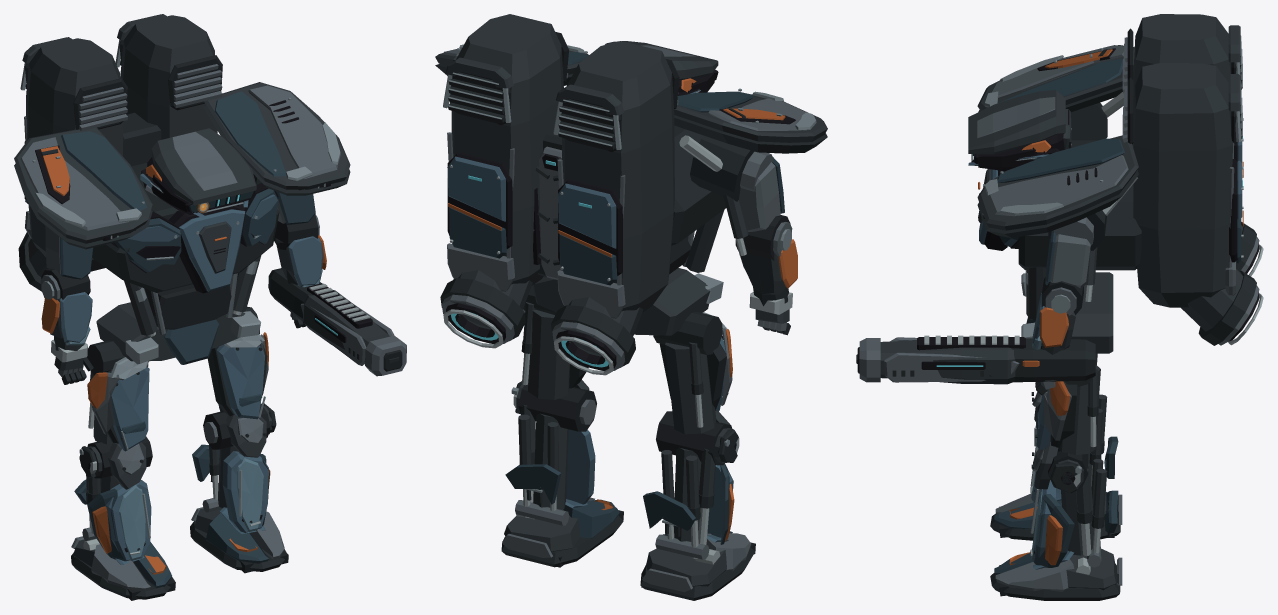
The model's file is m07-cangyan-v4.glb.
3 renders of one model, left to right at view 1: azimuth 30°, elevation 25°; view 2: azimuth 150°, elevation 25°; view 3: azimuth 270°, elevation 25°, orthographic. The views are drawn at different scales.
Parts seen in each view (by area): view 1: M07_Upper_armor, M07_Shin_L_armor, M07_Shin_R_armor, M07_Rifle_armor, M07_Thigh_L_armor, M07_Thigh_R_armor, M07_Foot_R_armor, M07_Foot_L_armor; view 2: M07_Upper_armor, M07_Shin_L_armor, M07_Shin_R_armor, M07_Thigh_L_armor, M07_Foot_R_armor, M07_Foot_L_armor, M07_Thigh_R_armor, M07_Upper_optics; view 3: M07_Upper_armor, M07_Rifle_armor, M07_Shin_R_armor, M07_Foot_R_armor, M07_Thigh_R_armor, M07_Foot_L_armor, M07_Shin_L_armor.
Part boxes in pixels (x1=…): M07_Upper_armor: x1=14, y1=14, x2=350, y2=384; M07_Shin_L_armor: x1=74, y1=436, x2=152, y2=561; M07_Shin_R_armor: x1=192, y1=403, x2=276, y2=532; M07_Rifle_armor: x1=268, y1=268, x2=406, y2=376; M07_Thigh_L_armor: x1=87, y1=340, x2=149, y2=451; M07_Thigh_R_armor: x1=208, y1=306, x2=268, y2=419; M07_Foot_R_armor: x1=190, y1=507, x2=288, y2=573; M07_Foot_L_armor: x1=71, y1=536, x2=175, y2=600; M07_Upper_armor: x1=435, y1=14, x2=827, y2=375; M07_Shin_L_armor: x1=643, y1=411, x2=739, y2=559; M07_Shin_R_armor: x1=505, y1=379, x2=596, y2=525; M07_Thigh_L_armor: x1=653, y1=311, x2=732, y2=434; M07_Foot_R_armor: x1=501, y1=497, x2=623, y2=567; M07_Foot_L_armor: x1=640, y1=531, x2=755, y2=600; M07_Thigh_R_armor: x1=521, y1=285, x2=588, y2=399; M07_Upper_optics: x1=451, y1=160, x2=608, y2=367; M07_Upper_armor: x1=968, y1=14, x2=1263, y2=395; M07_Rifle_armor: x1=856, y1=335, x2=1095, y2=384; M07_Shin_R_armor: x1=1030, y1=437, x2=1118, y2=567; M07_Foot_R_armor: x1=990, y1=548, x2=1122, y2=600; M07_Thigh_R_armor: x1=1034, y1=364, x2=1100, y2=454; M07_Foot_L_armor: x1=990, y1=488, x2=1122, y2=540; M07_Shin_L_armor: x1=1030, y1=392, x2=1118, y2=503.
Size of the model in its own units: 10.98 by 16.57 by 12.13.
